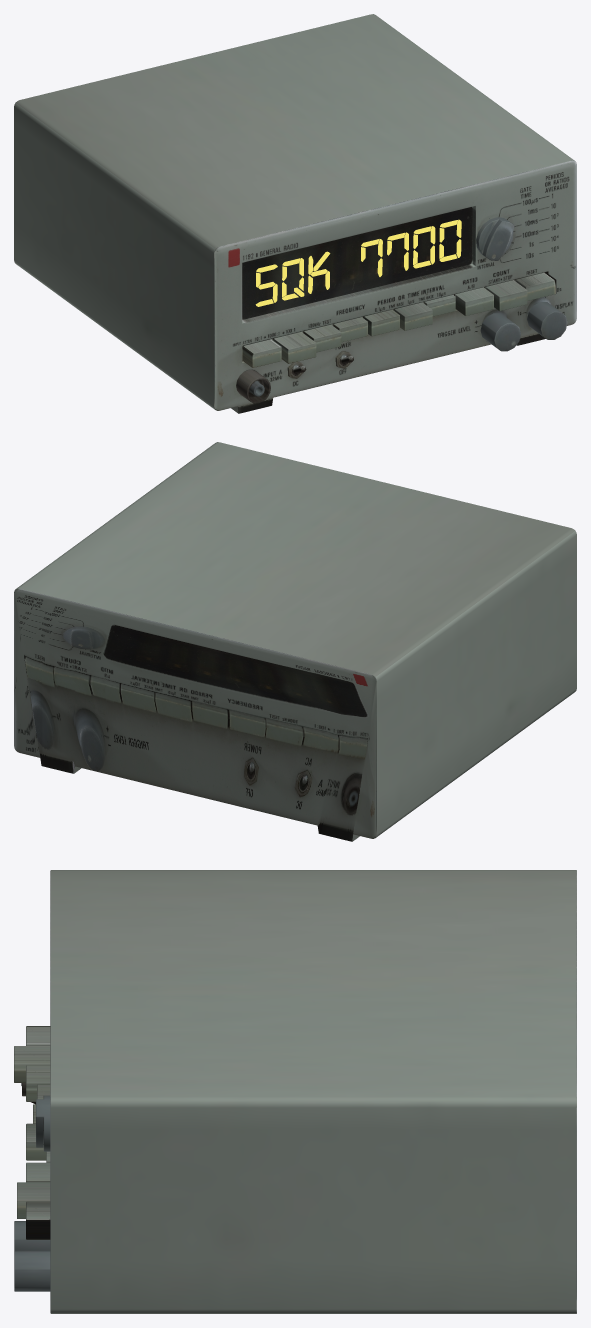
The model's file is radio.glb.
The picture shows the model from 3 angles, top to bottom: view 1: azimuth 30°, elevation 25°; view 2: azimuth 150°, elevation 25°; view 3: azimuth 270°, elevation 25°; orthographic projection. The views are drawn at different scales.
Visible parts, largest first — view 1: radio-panel, radio-panel-text; view 2: radio-panel; view 3: radio-panel.
Boxes of the visible parts, x1,y1,x2,y2 form: radio-panel: [14, 14, 576, 413]; radio-panel-text: [255, 219, 461, 306]; radio-panel: [14, 442, 576, 841]; radio-panel: [14, 870, 576, 1313].
Bounding box in the file's own units: 2.02 × 0.9173 × 2.07.
3 materials, 2 textured.
